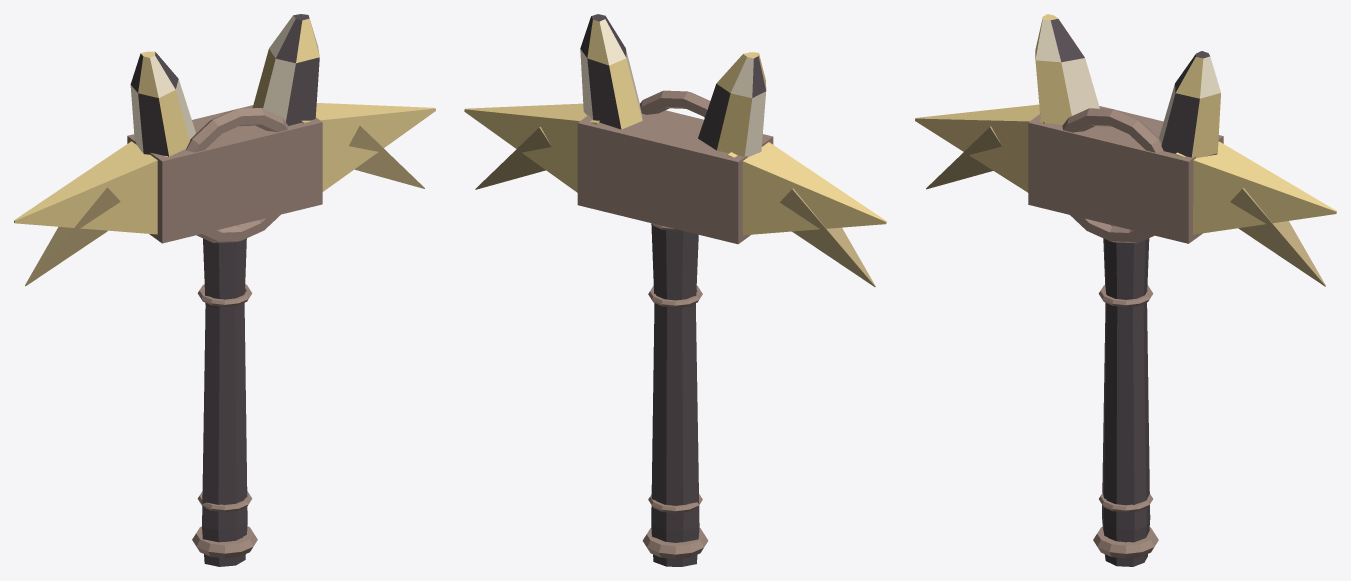
File: BH_PICK_P28_Picareta_Nucleo_Prime_V01.glb
3 renders of one model, left to right at view 1: azimuth 30°, elevation 25°; view 2: azimuth 150°, elevation 25°; view 3: azimuth 330°, elevation 25°, orthographic.
Parts seen in each view (by area): view 1: Head | main crossbar.001, Handle | shaped shaft.001, Head | mining tooth L.001, Head | dragon horn 1.001, Head | mining tooth R.001, Head | dragon horn -1.001, Head | arcane frame.001, Head | hooked spur -1.001, Head | hooked spur 1.001, Handle | pommel.001; view 2: Head | main crossbar.001, Handle | shaped shaft.001, Head | mining tooth L.001, Head | dragon horn -1.001, Head | mining tooth R.001, Head | dragon horn 1.001, Head | hooked spur -1.001, Head | hooked spur 1.001, Head | arcane frame.001, Handle | pommel.001; view 3: Head | main crossbar.001, Handle | shaped shaft.001, Head | mining tooth R.001, Head | mining tooth L.001, Head | dragon horn 1.001, Head | dragon horn -1.001, Head | arcane frame.001, Head | hooked spur 1.001, Head | hooked spur -1.001, Handle | pommel.001.
Boxes of the visible parts, x1,y1,x2,y2 form: Head | main crossbar.001: [127, 105, 322, 243]; Handle | shaped shaft.001: [202, 238, 247, 566]; Head | mining tooth L.001: [14, 141, 172, 234]; Head | dragon horn 1.001: [252, 14, 319, 125]; Head | mining tooth R.001: [301, 103, 435, 191]; Head | dragon horn -1.001: [130, 51, 195, 156]; Head | arcane frame.001: [186, 108, 288, 242]; Head | hooked spur -1.001: [25, 187, 120, 286]; Head | hooked spur 1.001: [349, 126, 424, 188]; Handle | pommel.001: [192, 526, 257, 558]; Head | main crossbar.001: [577, 110, 773, 244]; Handle | shaped shaft.001: [651, 223, 699, 566]; Head | mining tooth L.001: [727, 142, 886, 235]; Head | dragon horn -1.001: [698, 52, 766, 157]; Head | mining tooth R.001: [464, 103, 599, 192]; Head | dragon horn 1.001: [580, 14, 642, 129]; Head | hooked spur -1.001: [780, 188, 875, 286]; Head | hooked spur 1.001: [475, 126, 551, 189]; Head | arcane frame.001: [640, 90, 710, 117]; Handle | pommel.001: [642, 528, 708, 559]; Head | main crossbar.001: [1028, 106, 1223, 243]; Handle | shaped shaft.001: [1102, 238, 1150, 566]; Head | mining tooth R.001: [1175, 141, 1336, 234]; Head | mining tooth L.001: [915, 104, 1045, 192]; Head | dragon horn 1.001: [1159, 51, 1220, 157]; Head | dragon horn -1.001: [1035, 14, 1099, 124]; Head | arcane frame.001: [1062, 108, 1163, 243]; Head | hooked spur 1.001: [1230, 188, 1325, 286]; Head | hooked spur -1.001: [926, 126, 1001, 189]; Handle | pommel.001: [1093, 527, 1158, 558].
Bounding box in the file's own units: 2.36 × 2.8 × 0.34.
